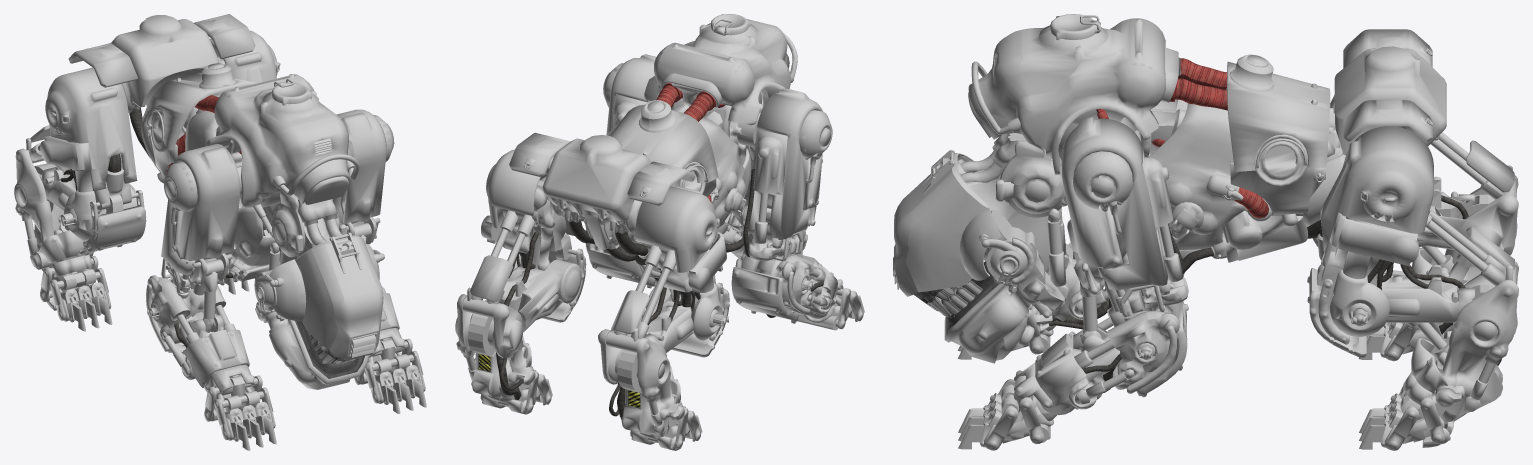
The model's file is PanzerFBX.fbx.
3 renders of one model, left to right at view 1: azimuth 30°, elevation 25°; view 2: azimuth 150°, elevation 25°; view 3: azimuth 270°, elevation 25°, orthographic. The views are drawn at different scales.
Visible parts, largest first — view 1: legs, front, bodi, 40_mesh1.002_0.1_16_16, cable, 40_+mesh8.mesh8_0.1_16_16; view 2: legs, bodi, front, cable, 40_+mesh8.mesh8_0.1_16_16, tamper; view 3: legs, front, bodi, cable, 40_+mesh8.mesh8_0.1_16_16, teeth, 40_mesh1.002_0.1_16_16.
Boxes of the visible parts, box(x1,y1,x2,y2) form: legs: box(14, 30, 426, 450); front: box(205, 74, 384, 389); bodi: box(68, 14, 293, 281); 40_mesh1.002_0.1_16_16: box(285, 318, 364, 378); cable: box(60, 108, 393, 386); 40_+mesh8.mesh8_0.1_16_16: box(166, 95, 230, 173); legs: box(455, 54, 864, 450); bodi: box(509, 19, 763, 259); front: box(644, 14, 822, 260); cable: box(496, 169, 823, 419); 40_+mesh8.mesh8_0.1_16_16: box(656, 85, 713, 201); tamper: box(478, 354, 640, 408); legs: box(957, 95, 1518, 450); front: box(893, 14, 1220, 363); bodi: box(1058, 15, 1446, 262); cable: box(1049, 195, 1501, 392); 40_+mesh8.mesh8_0.1_16_16: box(1152, 58, 1268, 218); teeth: box(918, 280, 982, 318); 40_mesh1.002_0.1_16_16: box(914, 261, 1010, 333).
Size of the model in its own units: 1.29 by 2.52 by 1.67.
